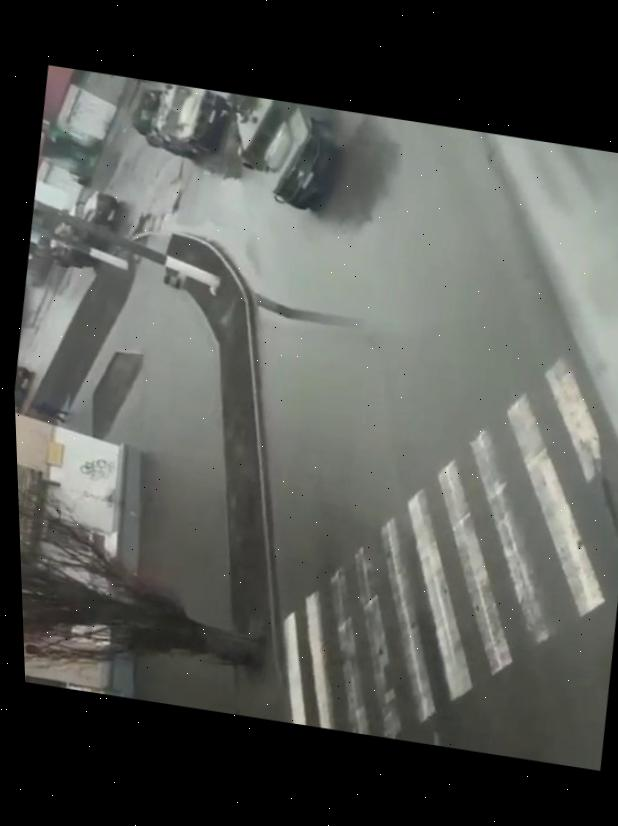armored_car: (215, 92, 346, 215), (127, 78, 232, 165), (44, 183, 122, 275), (13, 359, 30, 413)
person: (29, 399, 69, 423)
